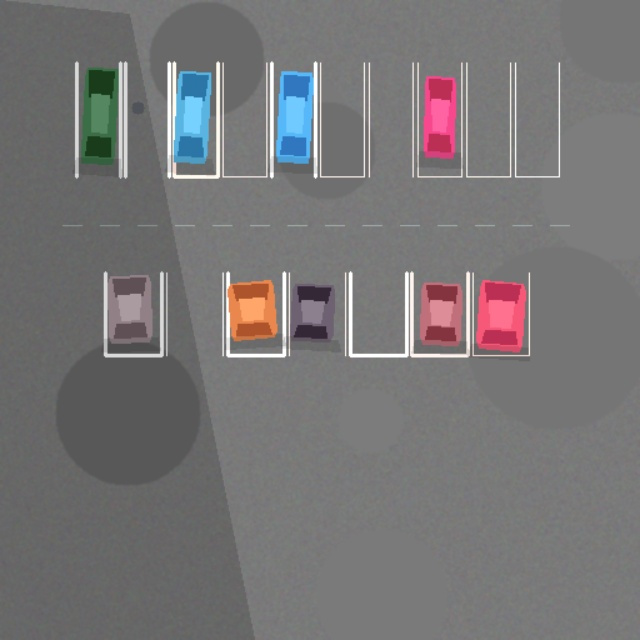space-empty: (125, 62, 169, 176), (320, 62, 364, 176), (369, 62, 413, 176), (466, 62, 510, 176), (515, 62, 559, 176), (223, 62, 266, 176), (166, 272, 223, 355), (350, 272, 406, 355)
space-occupied: (76, 62, 120, 176), (271, 62, 315, 176), (417, 62, 461, 176), (174, 62, 217, 176), (227, 272, 284, 355), (105, 272, 161, 355), (289, 272, 345, 355), (411, 272, 467, 355), (473, 272, 529, 355)
